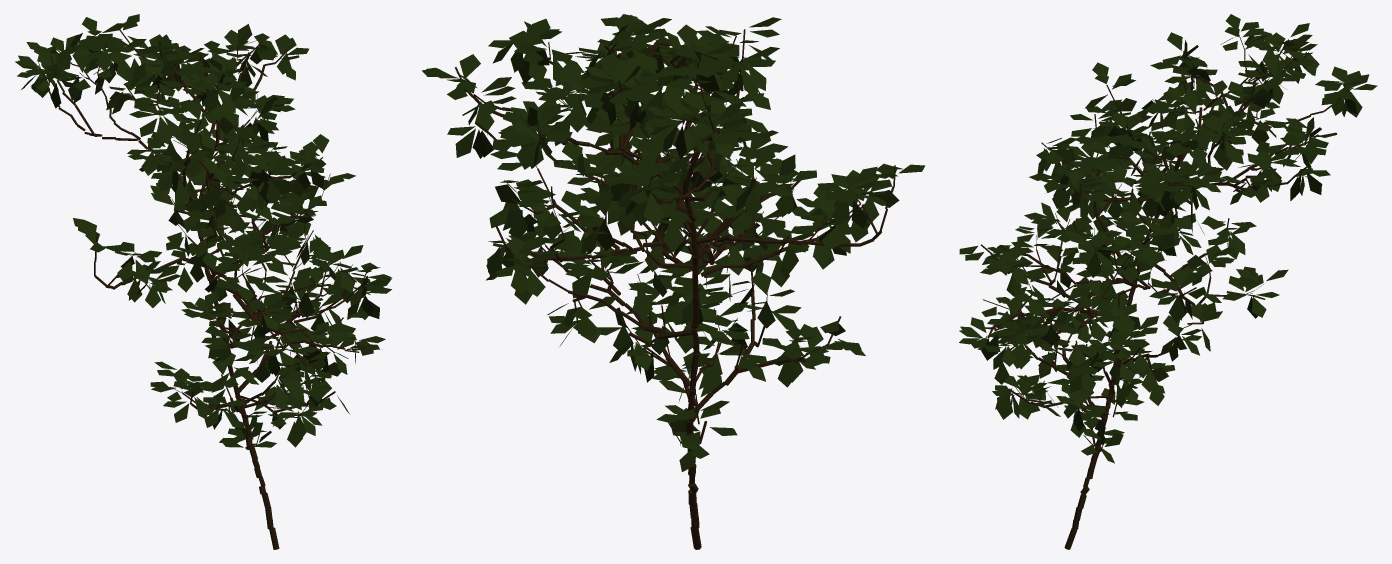
File: tree_504.obj
3 renders of one model, left to right at view 1: azimuth 30°, elevation 25°; view 2: azimuth 150°, elevation 25°; view 3: azimuth 270°, elevation 25°, orthographic. The views are drawn at different scales.
Visible parts, largest first — view 1: Leaves, TrunkAndBranches; view 2: Leaves, TrunkAndBranches; view 3: Leaves, TrunkAndBranches.
Boxes of the visible parts, bbox=[...] form: Leaves: bbox=[15, 14, 391, 447]; TrunkAndBranches: bbox=[38, 29, 367, 549]; Leaves: bbox=[422, 14, 925, 471]; TrunkAndBranches: bbox=[454, 29, 895, 549]; Leaves: bbox=[959, 14, 1377, 463]; TrunkAndBranches: bbox=[980, 31, 1353, 549].
Bounding box in the file's own units: 3.68 × 5.47 × 4.36.
